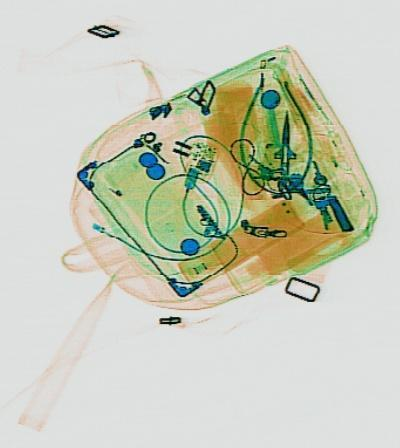Knife: (271, 110, 297, 173)
